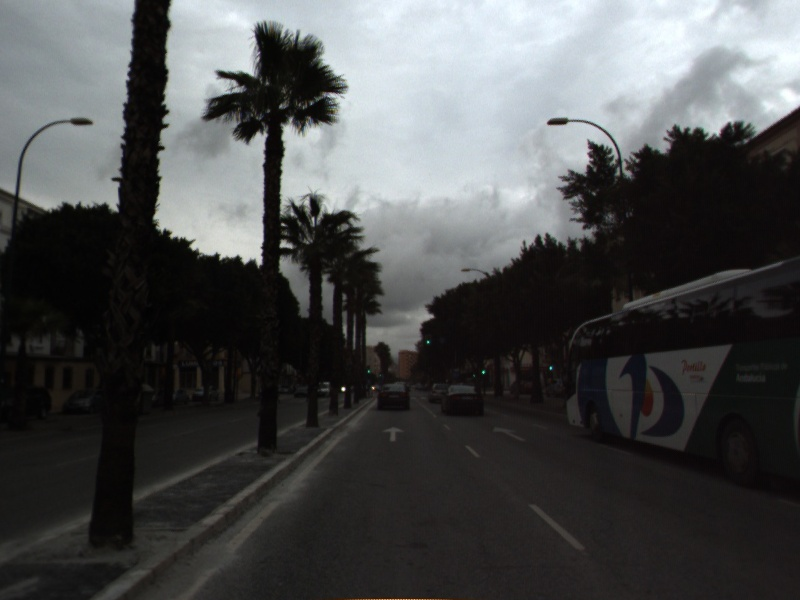STRAIGHT: (490, 424, 528, 444), (380, 424, 407, 443)
